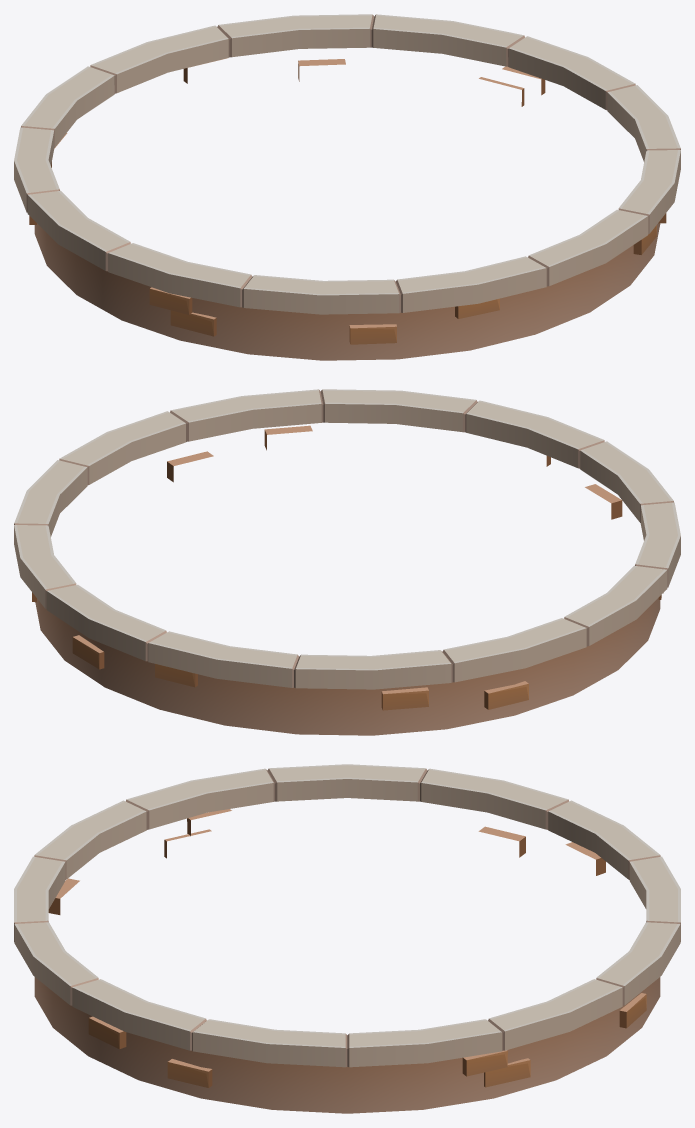
Rendered from RoundPlanter_Rock_1.glb.
The picture shows the model from 3 angles, top to bottom: view 1: azimuth 30°, elevation 25°; view 2: azimuth 150°, elevation 25°; view 3: azimuth 270°, elevation 25°; orthographic projection.
Visible parts, largest first — view 1: RoundPlanter_Rock; view 2: RoundPlanter_Rock; view 3: RoundPlanter_Rock.
Boxes of the visible parts, x1,y1,x2,y2 form: RoundPlanter_Rock: [14, 14, 680, 360]; RoundPlanter_Rock: [14, 389, 680, 735]; RoundPlanter_Rock: [14, 764, 680, 1113].
Size of the model in its own units: 2.82 by 0.3455 by 2.8.
